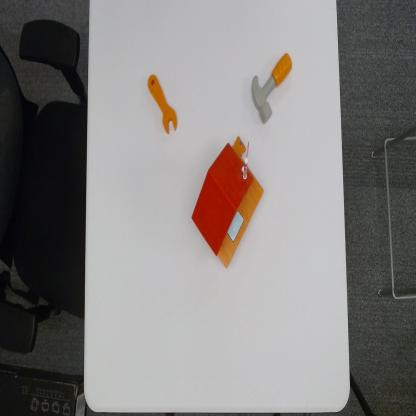Hammer: (250, 52, 294, 126)
House: (191, 134, 266, 272)
Screwdriver: (146, 72, 178, 136)
